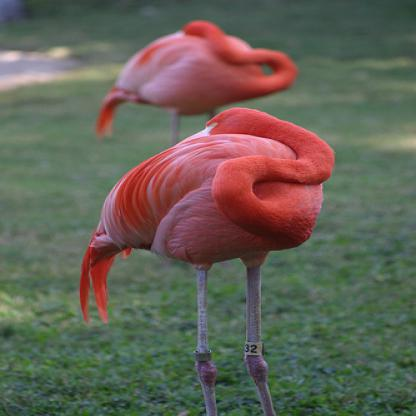bird: (77, 106, 335, 415), (94, 19, 296, 146)
